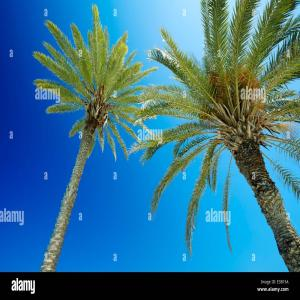palm tree: (130, 0, 299, 272), (31, 3, 158, 272)
